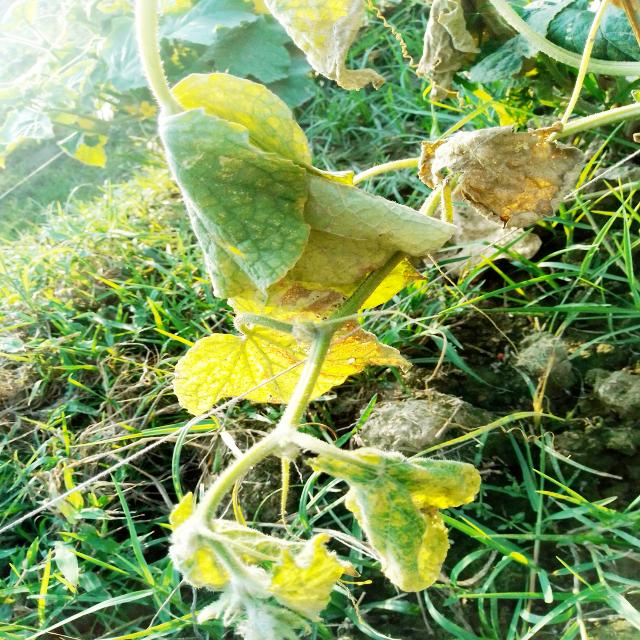Bacterial-Wilt: (157, 107, 371, 320)
